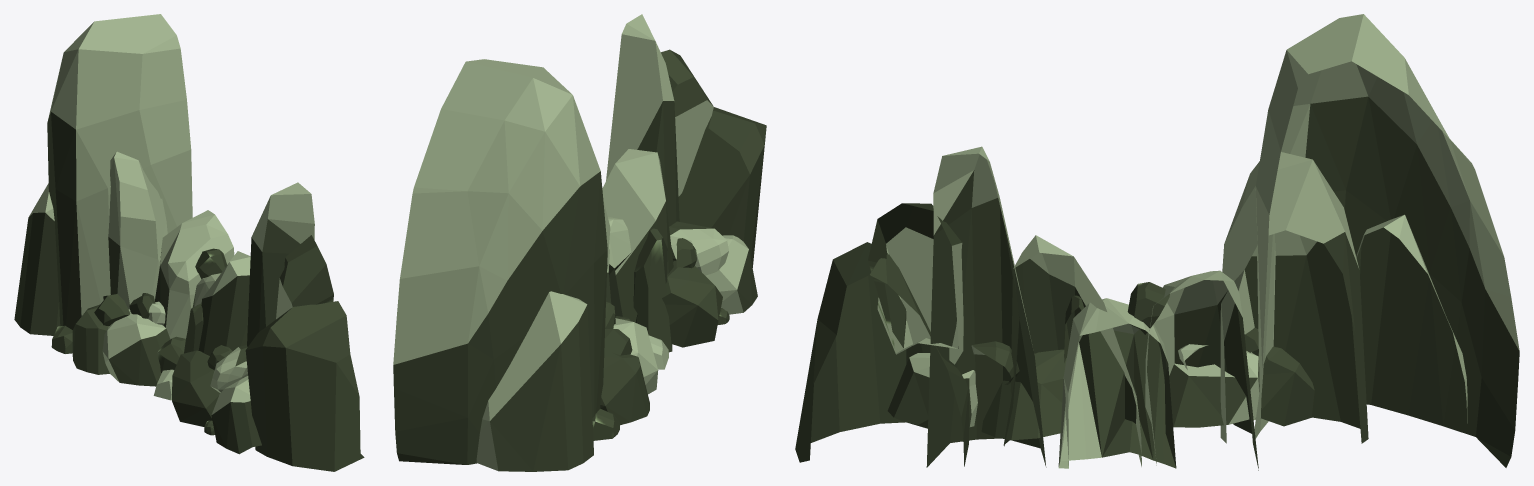
File: EA_Swamp_Wall_01b.glb
3 views of the same model, side by side, from view 1: azimuth 30°, elevation 25°; view 2: azimuth 150°, elevation 25°; view 3: azimuth 270°, elevation 25° (orthographic). The views are drawn at different scales.
Visible parts, largest first — view 1: EA_Swamp_Wall_01b; view 2: EA_Swamp_Wall_01b; view 3: EA_Swamp_Wall_01b.
Part boxes in pixels (x1,y1,x2,y2): EA_Swamp_Wall_01b: (14,14,364,471); EA_Swamp_Wall_01b: (393,14,766,471); EA_Swamp_Wall_01b: (795,14,1519,470).
Size of the model in its own units: 4.52 by 10.18 by 16.03.
1 material, 1 textured.
